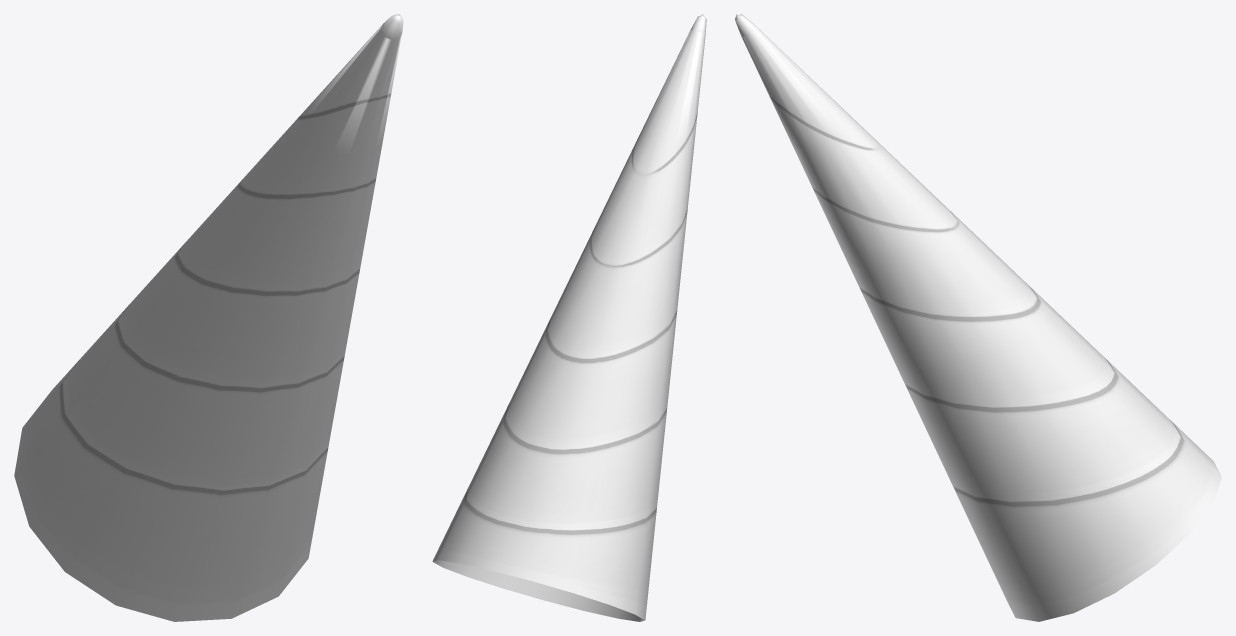
File: Unicorn.fbx
3 renders of one model, left to right at view 1: azimuth 30°, elevation 25°; view 2: azimuth 150°, elevation 25°; view 3: azimuth 270°, elevation 25°, orthographic. The views are drawn at different scales.
Parts seen in each view (by area): view 1: Unicorn; view 2: Unicorn; view 3: Unicorn.
Part boxes in pixels (x1,y1,x2,y2): Unicorn: (14,14,403,621); Unicorn: (432,14,706,621); Unicorn: (735,14,1221,621).
Size of the model in its own units: 9.05 by 23.02 by 17.28.
